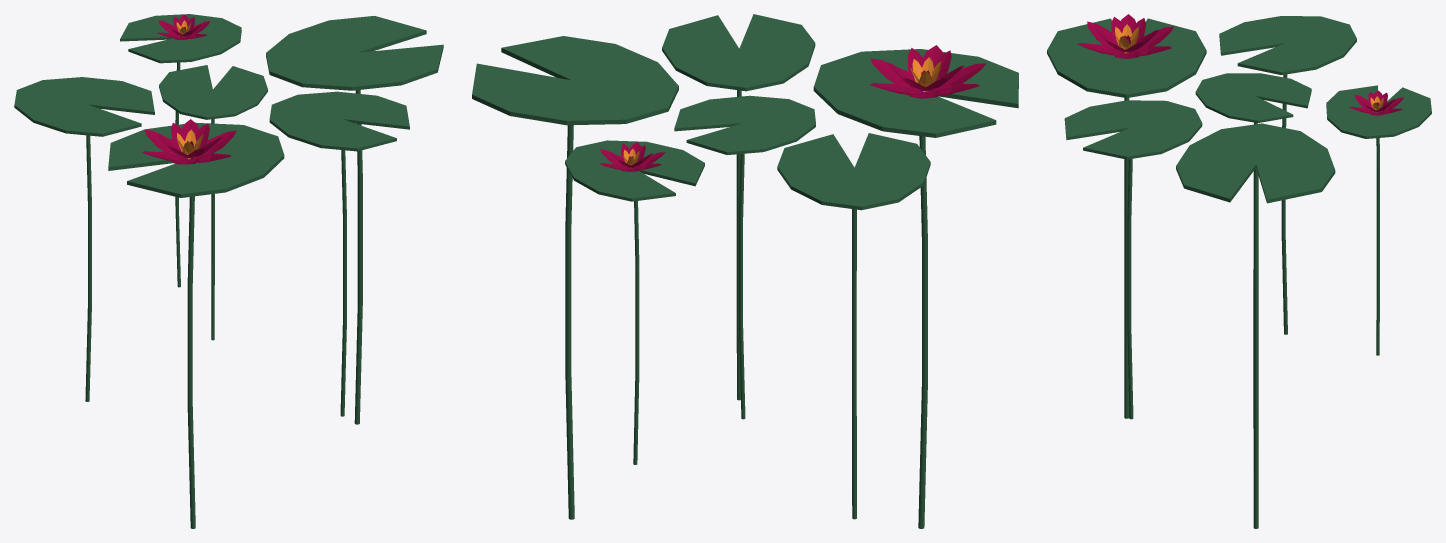
File: mod_vg_nenuphar.fbx
3 renders of one model, left to right at view 1: azimuth 30°, elevation 25°; view 2: azimuth 150°, elevation 25°; view 3: azimuth 270°, elevation 25°, orthographic. The views are drawn at different scales.
Parts seen in each view (by area): view 1: nenuphar6, fleur2, Fleur1; view 2: nenuphar6, fleur2, Fleur1; view 3: nenuphar6, fleur2, Fleur1.
Part boxes in pixels (x1,y1,x2,y2): nenuphar6: (14, 14, 443, 528); fleur2: (142, 119, 236, 164); Fleur1: (157, 14, 209, 39); nenuphar6: (472, 14, 1018, 528); fleur2: (869, 45, 985, 98); Fleur1: (600, 142, 665, 171); nenuphar6: (1047, 16, 1431, 528); fleur2: (1077, 14, 1173, 58); Fleur1: (1349, 90, 1403, 115).
Bounding box in the file's own units: 122 × 119 × 107.
